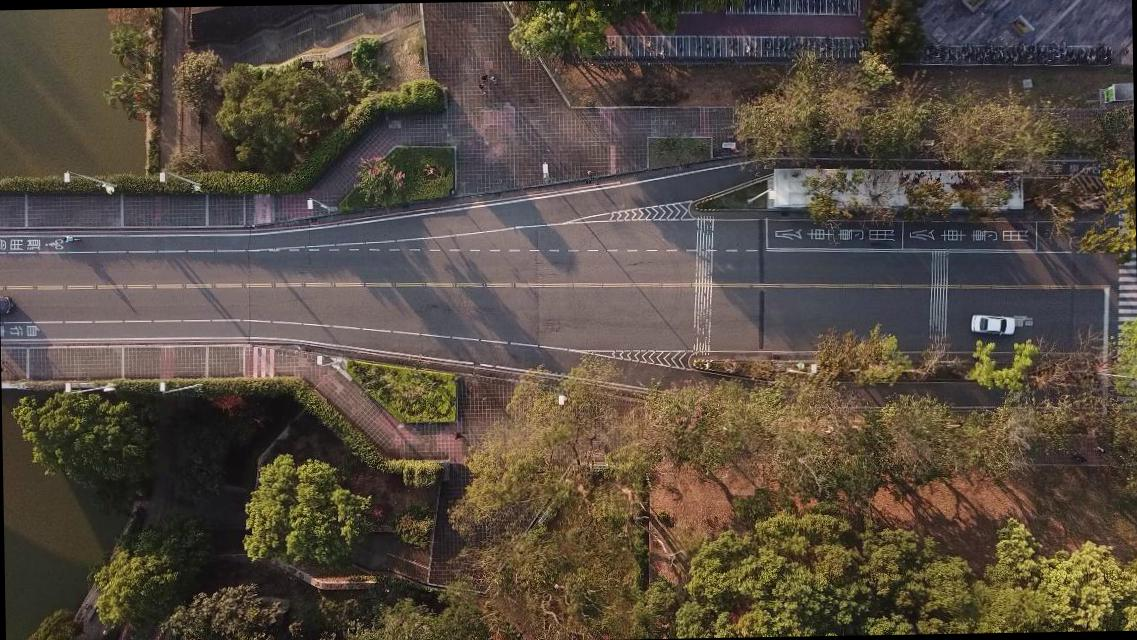vehicle: (970, 313, 1015, 336)
